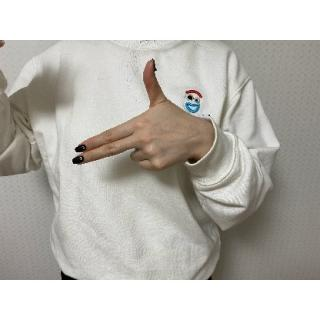GHAYN: (69, 55, 205, 174)
